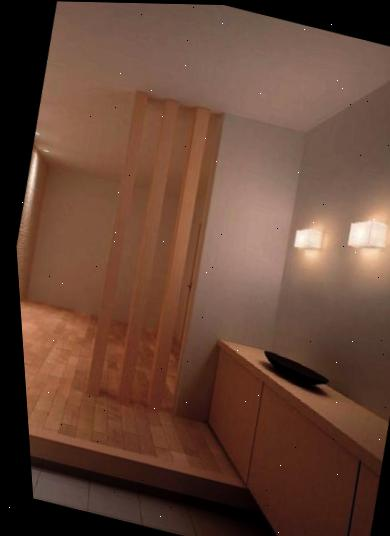floor: (31, 466, 277, 536)
safe: (20, 297, 249, 489)
